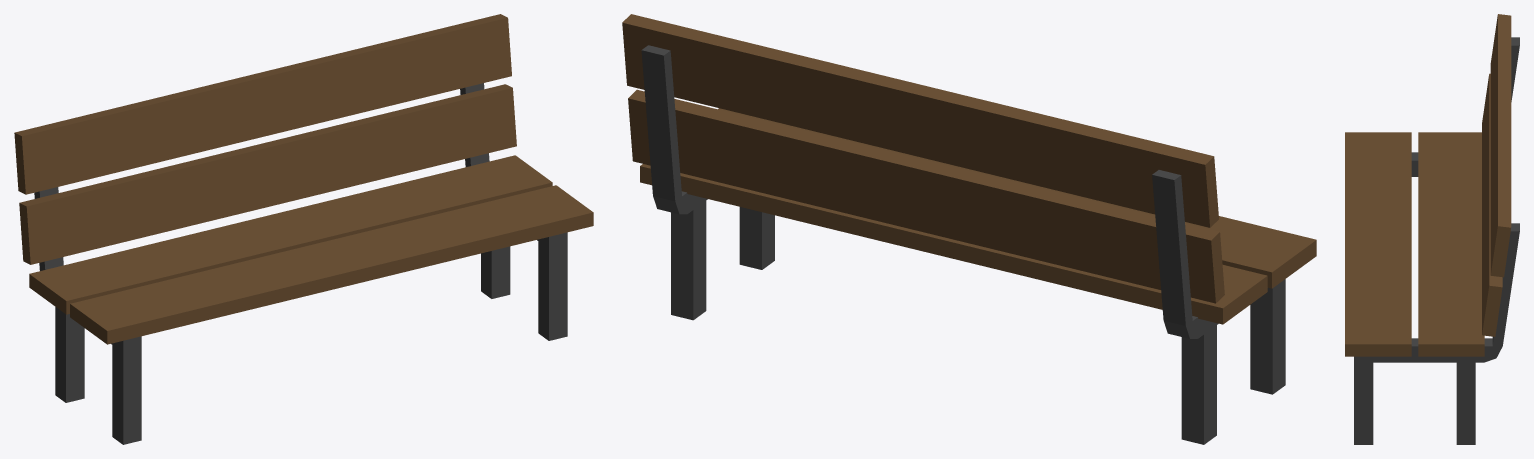
File: Bench_01.fbx
3 renders of one model, left to right at view 1: azimuth 30°, elevation 25°; view 2: azimuth 150°, elevation 25°; view 3: azimuth 270°, elevation 25°, orthographic. The views are drawn at different scales.
Visible parts, largest first — view 1: Bench_01; view 2: Bench_01; view 3: Bench_01.
Boxes of the visible parts, x1,y1,x2,y2 form: Bench_01: (14, 14, 593, 444); Bench_01: (622, 14, 1316, 444); Bench_01: (1345, 14, 1519, 444).
Bounding box in the file's own units: 193 × 96.91 × 67.39.
